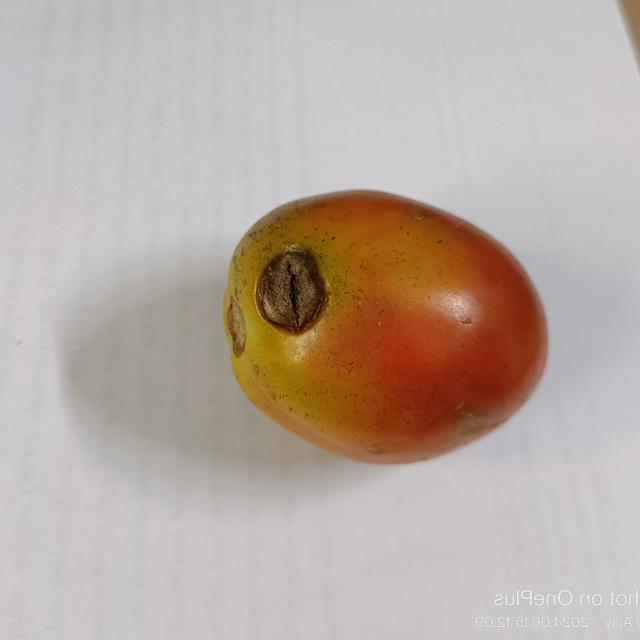Anthrocnose: (257, 250, 333, 334)
